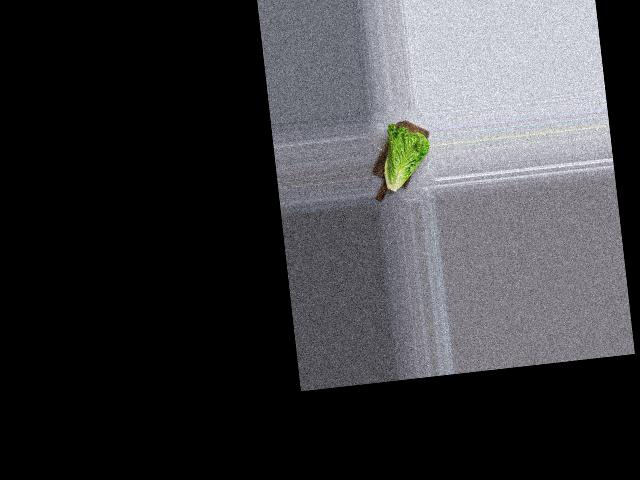lettuce: (371, 120, 434, 196)
